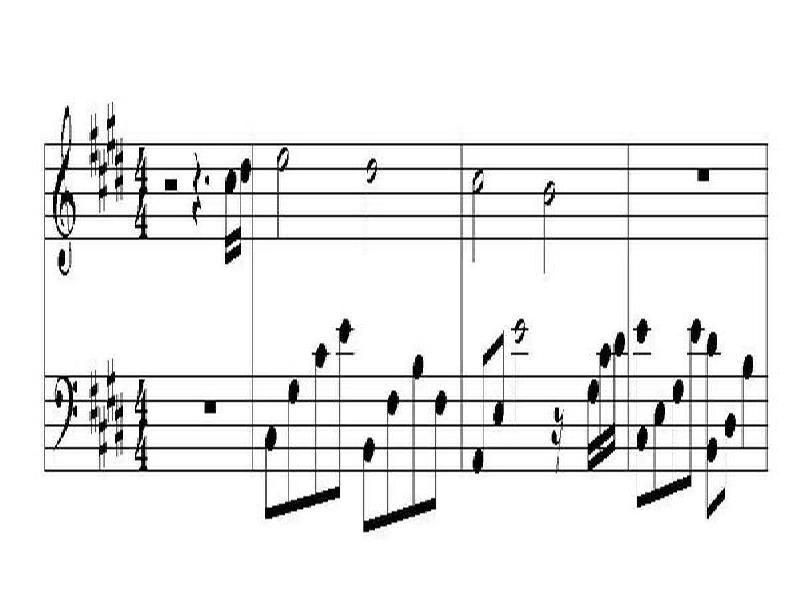B: (467, 163, 485, 264), (536, 175, 554, 275), (274, 147, 289, 246)
C: (330, 316, 354, 506), (685, 315, 706, 497), (404, 354, 426, 522), (380, 387, 404, 532), (280, 376, 302, 519), (310, 339, 328, 511), (427, 380, 449, 513), (469, 345, 489, 479), (261, 416, 284, 518), (361, 432, 380, 540), (650, 397, 667, 508), (492, 330, 509, 440)
CF: (53, 373, 83, 449)
CS: (52, 105, 81, 275)
P: (202, 169, 214, 192)
R: (362, 153, 381, 185)
SB: (162, 172, 180, 200), (694, 163, 714, 188), (203, 400, 220, 416)
SC: (611, 322, 626, 462), (596, 335, 610, 471), (581, 377, 599, 478), (237, 156, 251, 272), (221, 165, 236, 271)
SN: (191, 153, 206, 227)
SOS: (112, 137, 128, 203), (85, 369, 101, 434), (111, 397, 129, 454), (95, 408, 111, 472), (102, 359, 118, 422), (95, 151, 111, 211), (86, 113, 100, 174), (105, 106, 117, 161)
